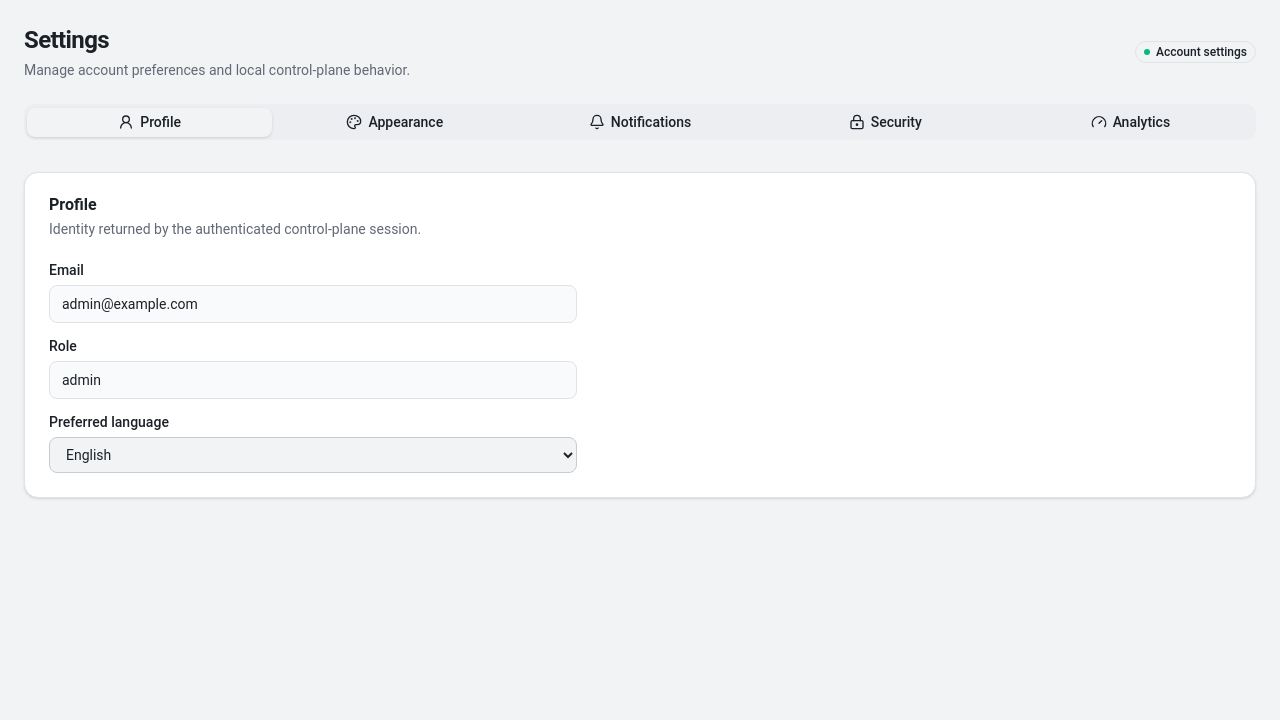
it: account settings › does not report a successful save when browser storage is unavailable
Press the mouse on the tab "Notifications" at coordinates (640, 122), box 517,108 -> 763,136
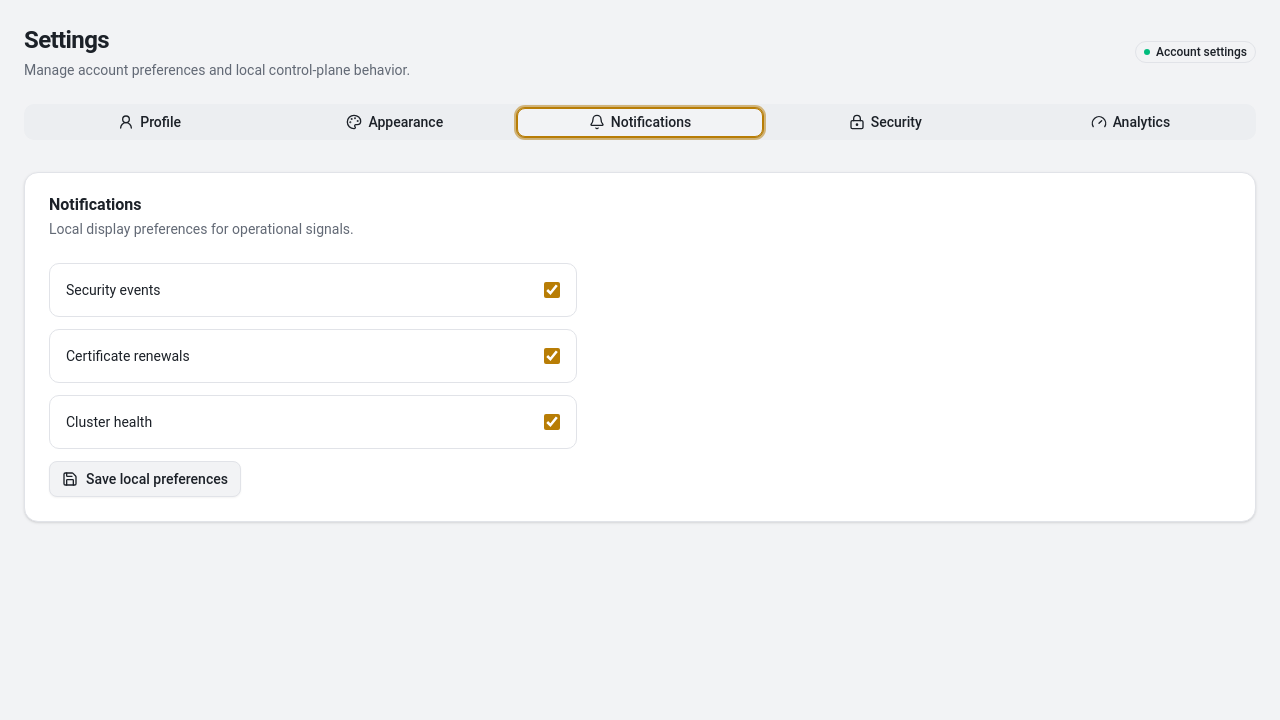
Click the button "Save local preferences".
click(145, 479)  # box 49,461 -> 241,497
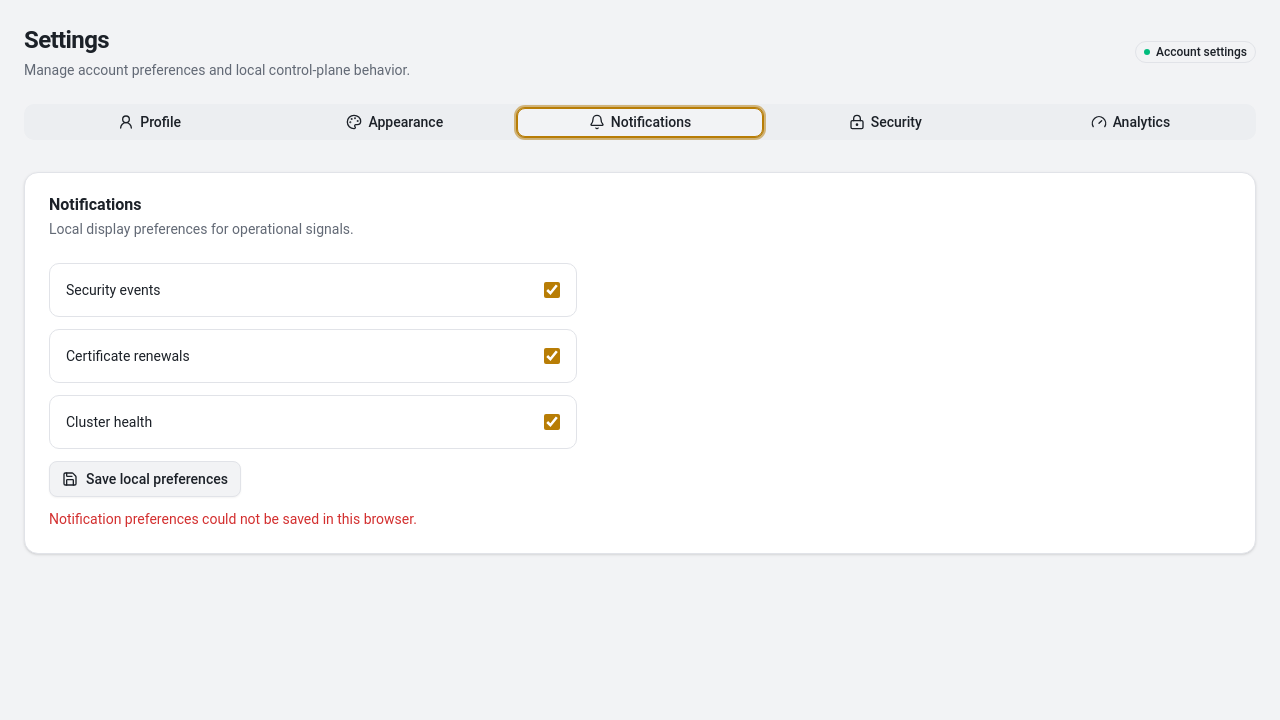
Expected: the message "Notification preferences could not be saved in this browser." is shown, 49,511 -> 417,527
